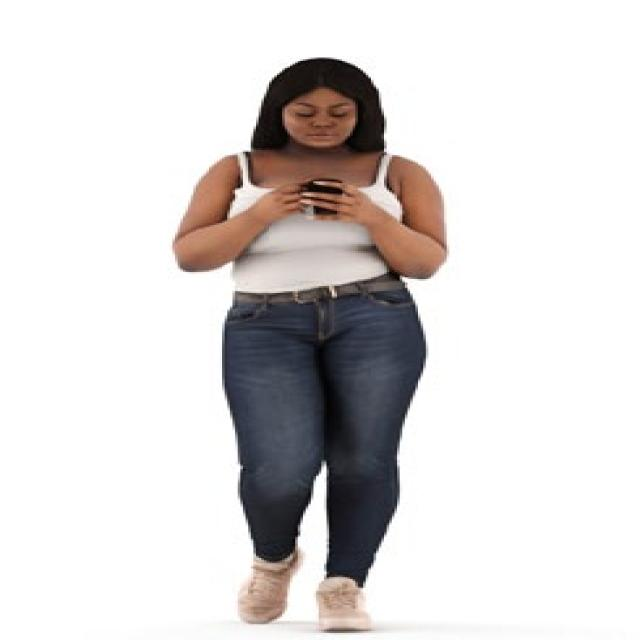standing: (166, 55, 453, 640)
